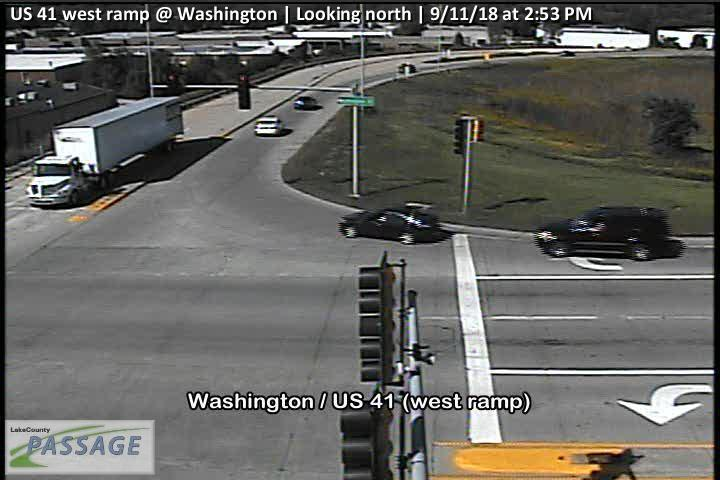SUV: (534, 206, 666, 258)
Sedan: (336, 206, 442, 243), (252, 114, 284, 137), (294, 96, 316, 110)
Truck: (25, 96, 186, 209)
